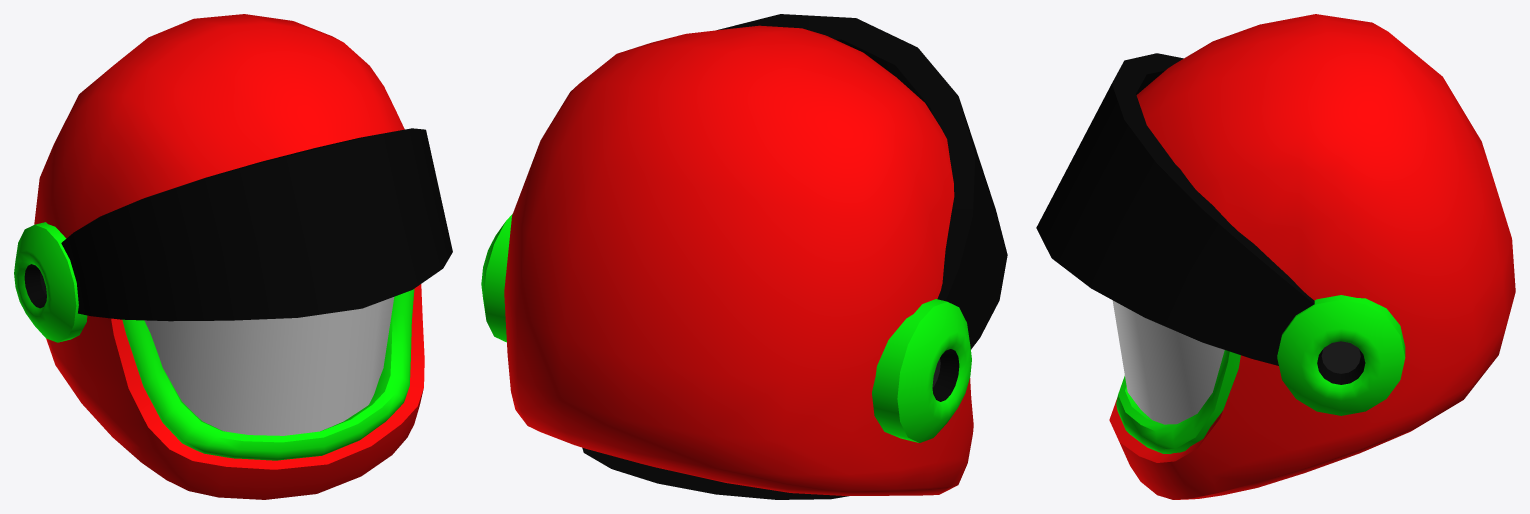
Rendered from Moonboy_head.fbx.
3 renders of one model, left to right at view 1: azimuth 30°, elevation 25°; view 2: azimuth 150°, elevation 25°; view 3: azimuth 270°, elevation 25°, orthographic. The views are drawn at different scales.
Visible parts, largest first — view 1: Moonboy_head; view 2: Moonboy_head; view 3: Moonboy_head.
Boxes of the visible parts, x1,y1,x2,y2 form: Moonboy_head: [14, 14, 452, 499]; Moonboy_head: [481, 14, 1007, 499]; Moonboy_head: [1036, 14, 1515, 499].
Size of the model in its own units: 34.55 by 35.78 by 36.39.
